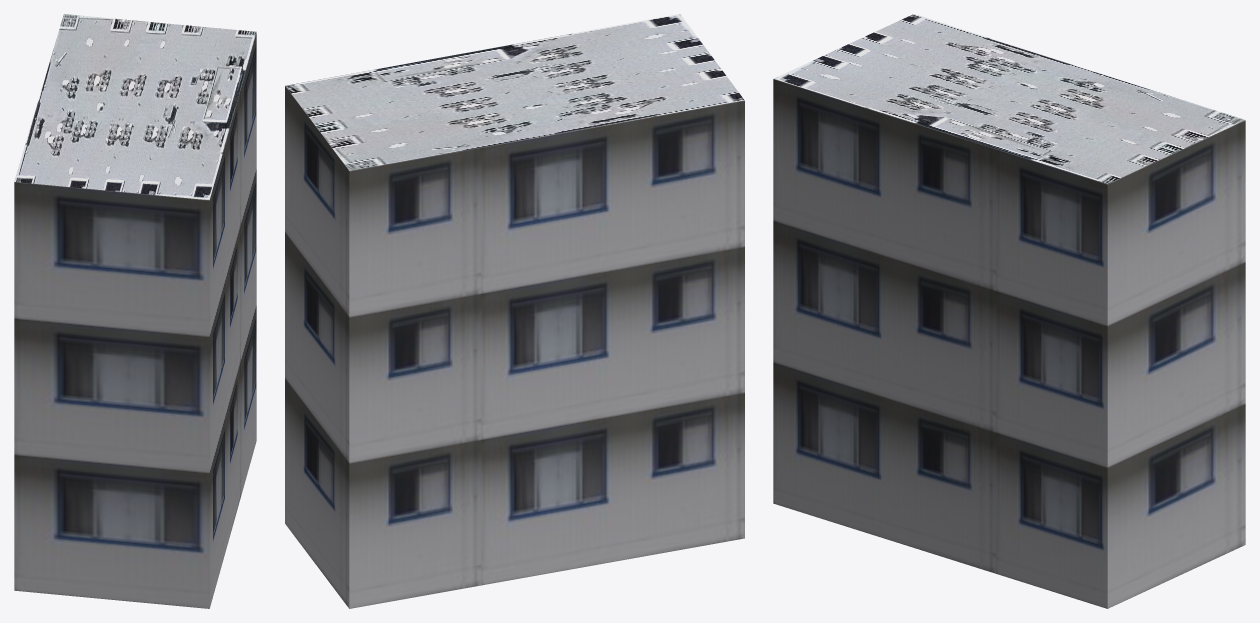
Rendered from ResTex__215.fbx.
3 views of the same model, side by side, from view 1: azimuth 30°, elevation 25°; view 2: azimuth 150°, elevation 25°; view 3: azimuth 270°, elevation 25° (orthographic). The views are drawn at different scales.
Visible parts, largest first — view 1: CityEngineMaterial_9_m, CityEngineMaterial_2_m; view 2: CityEngineMaterial_9_m, CityEngineMaterial_2_m; view 3: CityEngineMaterial_9_m, CityEngineMaterial_2_m.
Boxes of the visible parts, x1,y1,x2,y2 form: CityEngineMaterial_9_m: [14, 33, 256, 608]; CityEngineMaterial_2_m: [14, 14, 256, 200]; CityEngineMaterial_9_m: [285, 86, 744, 608]; CityEngineMaterial_2_m: [285, 14, 744, 170]; CityEngineMaterial_9_m: [773, 79, 1245, 608]; CityEngineMaterial_2_m: [773, 14, 1245, 183].
Size of the model in its own units: 7.74 by 9 by 9.07.
2 materials, 2 textured.
